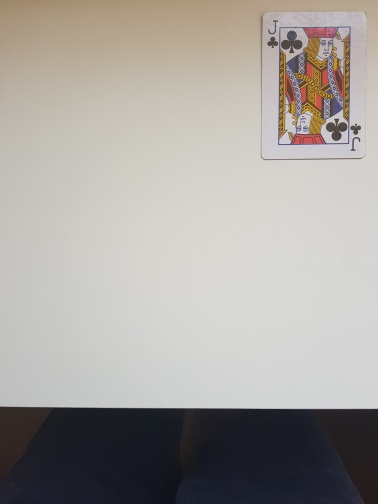jack: (259, 10, 367, 161)
